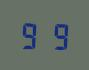nine: (44, 19, 68, 50), (19, 19, 43, 49)
